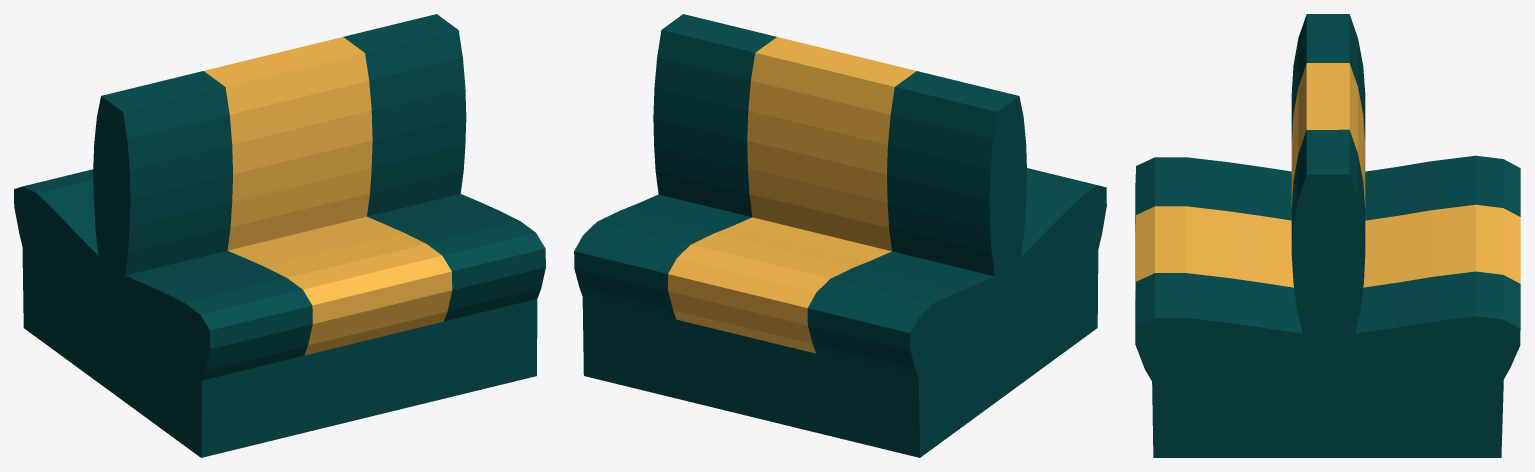
The model's file is sofa_3.fbx.
The picture shows the model from 3 angles, left to right: view 1: azimuth 30°, elevation 25°; view 2: azimuth 150°, elevation 25°; view 3: azimuth 270°, elevation 25°; orthographic projection. The views are drawn at different scales.
Parts seen in each view (by area): view 1: sofa_2; view 2: sofa_2; view 3: sofa_2.
Boxes of the visible parts, box(x1,y1,x2,y2) form: sofa_2: box(14, 14, 545, 457); sofa_2: box(574, 14, 1106, 457); sofa_2: box(1135, 14, 1520, 457).
Size of the model in its own units: 2.88 by 2.37 by 2.92.
